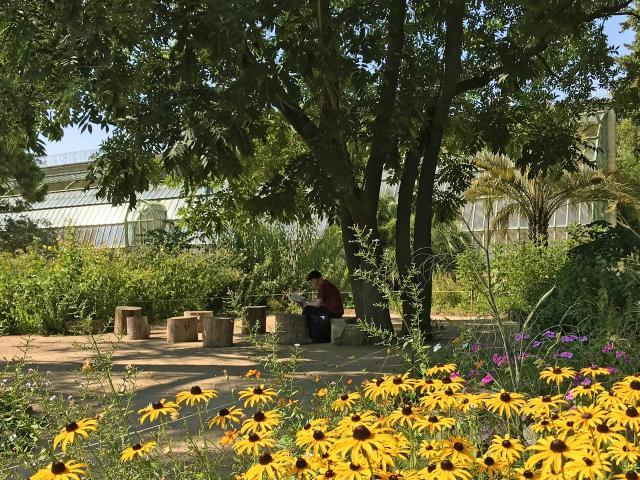overgrown grass: (0, 226, 347, 324), (457, 223, 639, 345)
